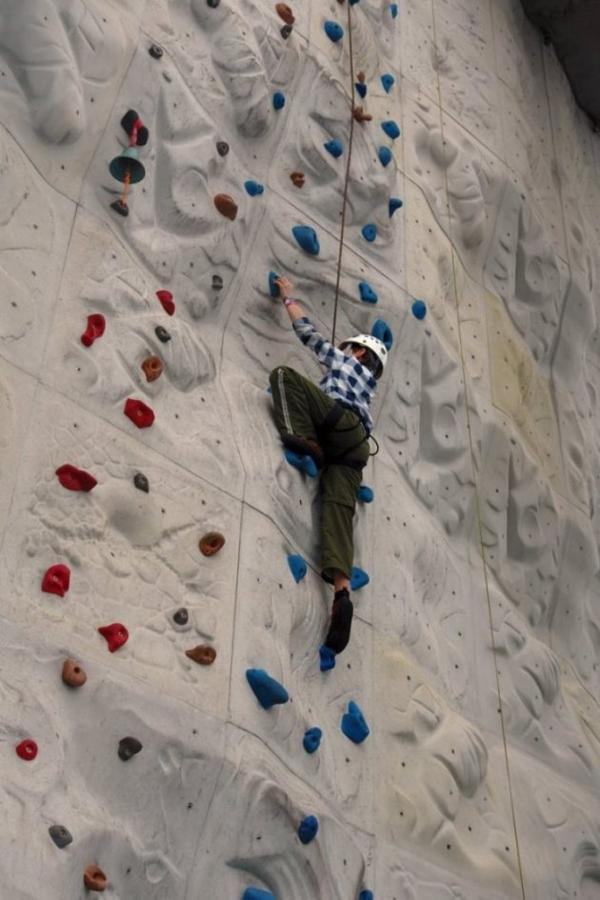person: (268, 270, 389, 656)
